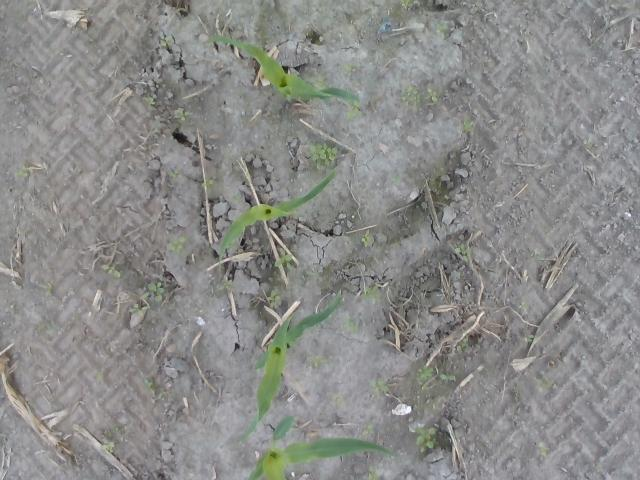Maize: (236, 291, 344, 445), (215, 163, 344, 276), (209, 34, 360, 108), (242, 410, 402, 479)
Weeds: (309, 144, 339, 169), (418, 366, 456, 385), (102, 424, 125, 453), (128, 292, 154, 317), (270, 274, 288, 308), (144, 379, 168, 399), (414, 428, 434, 451), (273, 248, 295, 268), (149, 283, 165, 306), (166, 236, 184, 256), (371, 377, 388, 398), (344, 312, 360, 334), (102, 266, 123, 280), (346, 102, 364, 118), (402, 89, 422, 103), (175, 108, 194, 122), (304, 355, 326, 366), (536, 440, 548, 460), (361, 232, 375, 249), (364, 286, 381, 300), (454, 248, 472, 261), (461, 120, 475, 136), (457, 338, 471, 354), (538, 376, 554, 390), (425, 87, 439, 102), (220, 278, 234, 292), (434, 22, 448, 34), (40, 282, 51, 296), (15, 168, 30, 178), (364, 424, 376, 435), (402, 1, 415, 10), (168, 170, 182, 178), (147, 94, 155, 105), (526, 338, 536, 346), (162, 36, 172, 44), (392, 176, 400, 184), (596, 462, 602, 472)
